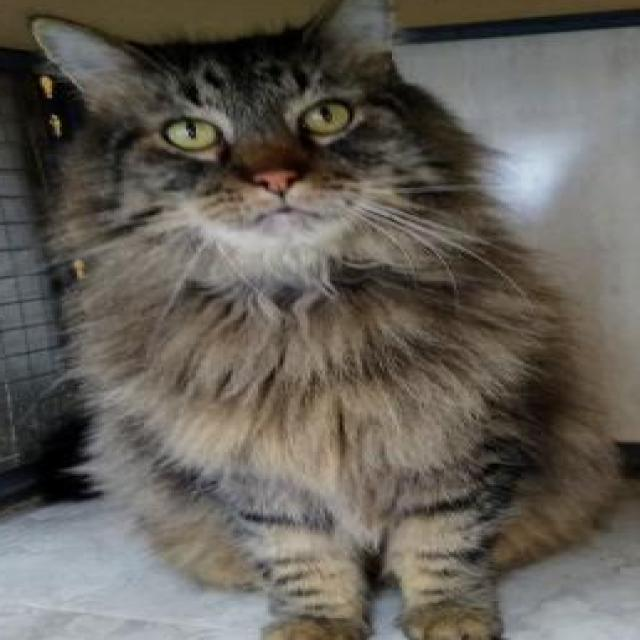Maine Coon: (25, 0, 630, 640)
